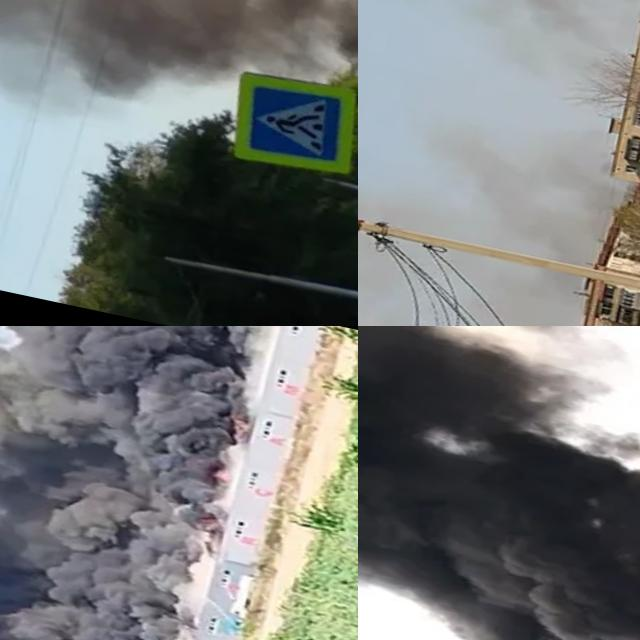smoke: (358, 326, 640, 640), (0, 326, 259, 640), (0, 0, 358, 151)
